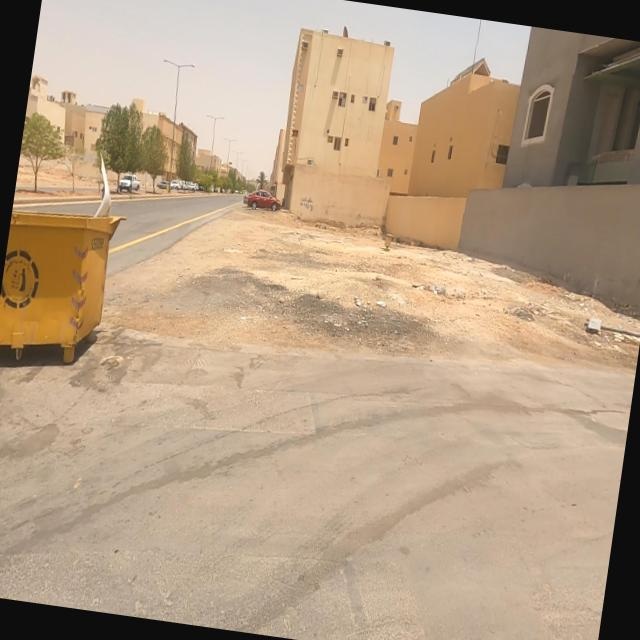Graffiti: (300, 196, 317, 214)
